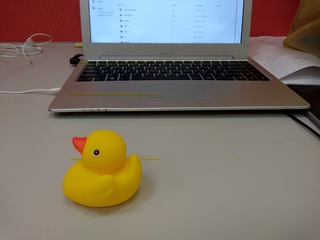duck: (57, 127, 148, 218)
